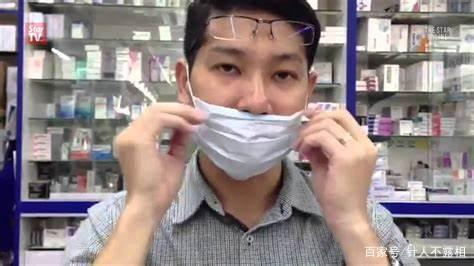nose_out: (175, 11, 316, 179)
